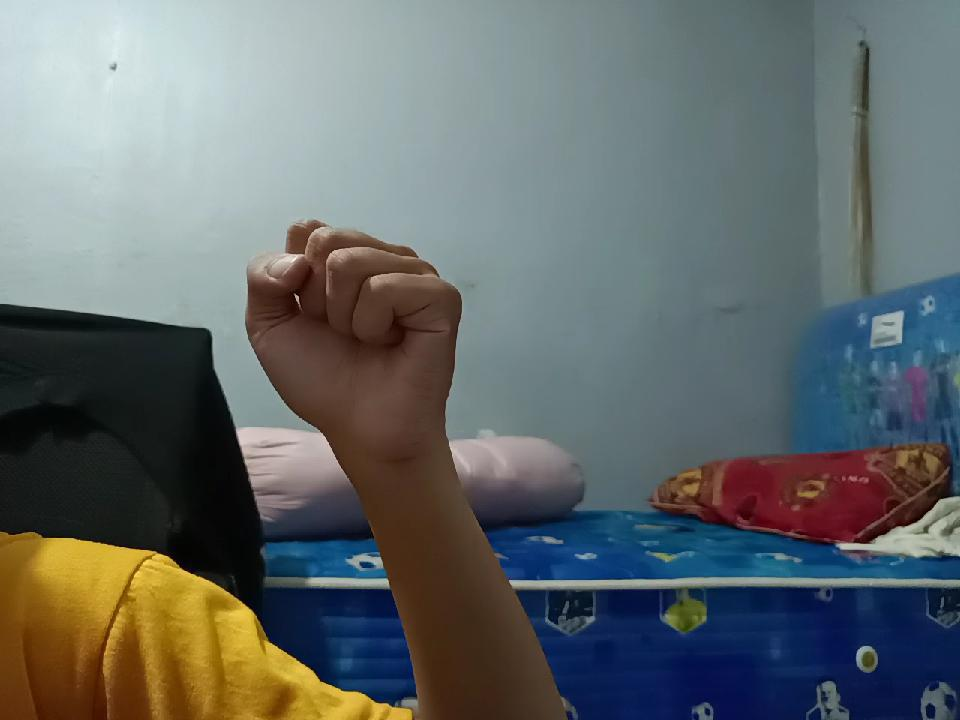rock: (241, 204, 467, 446)
